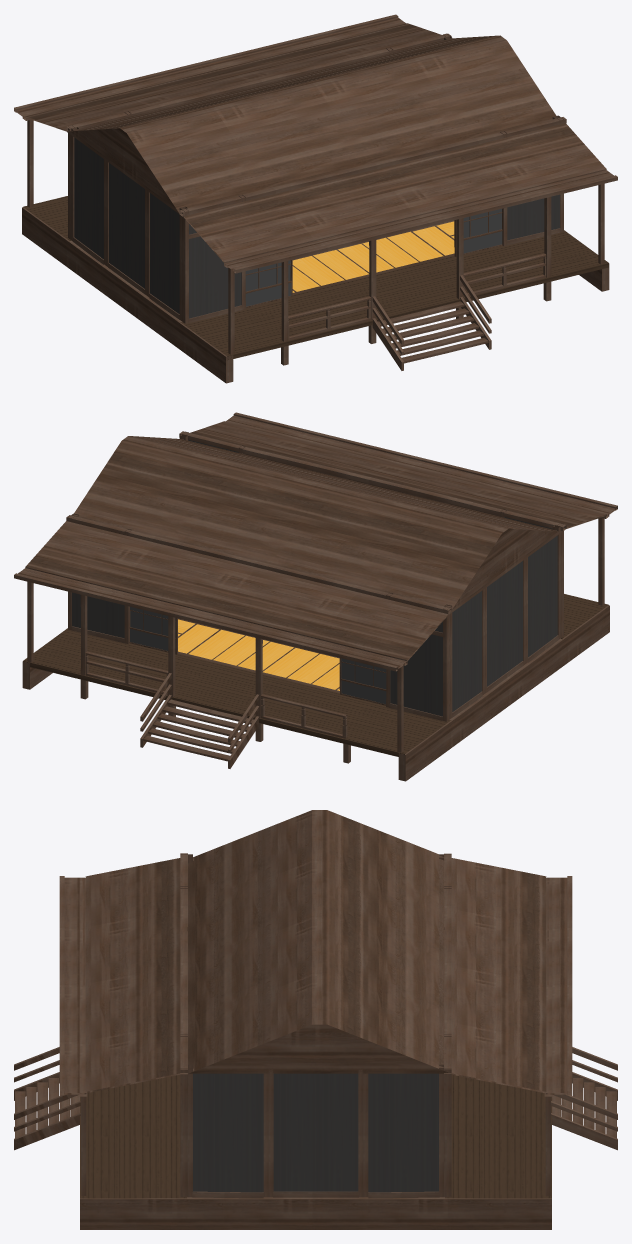
The model's file is BaseHouseJapanV2.fbx.
3 views of the same model, one above another, from view 1: azimuth 30°, elevation 25°; view 2: azimuth 150°, elevation 25°; view 3: azimuth 270°, elevation 25° (orthographic). The views are drawn at different scales.
Visible parts, largest first — view 1: Door__3_1; view 2: Door__3_1; view 3: Door__3_1.
Boxes of the visible parts, x1=… form: Door__3_1: x1=14, y1=14, x2=617, y2=383; Door__3_1: x1=14, y1=412, x2=617, y2=781; Door__3_1: x1=14, y1=810, x2=617, y2=1229.
Size of the model in its own units: 11.46 by 5.11 by 13.51.
1 material, 1 textured.
